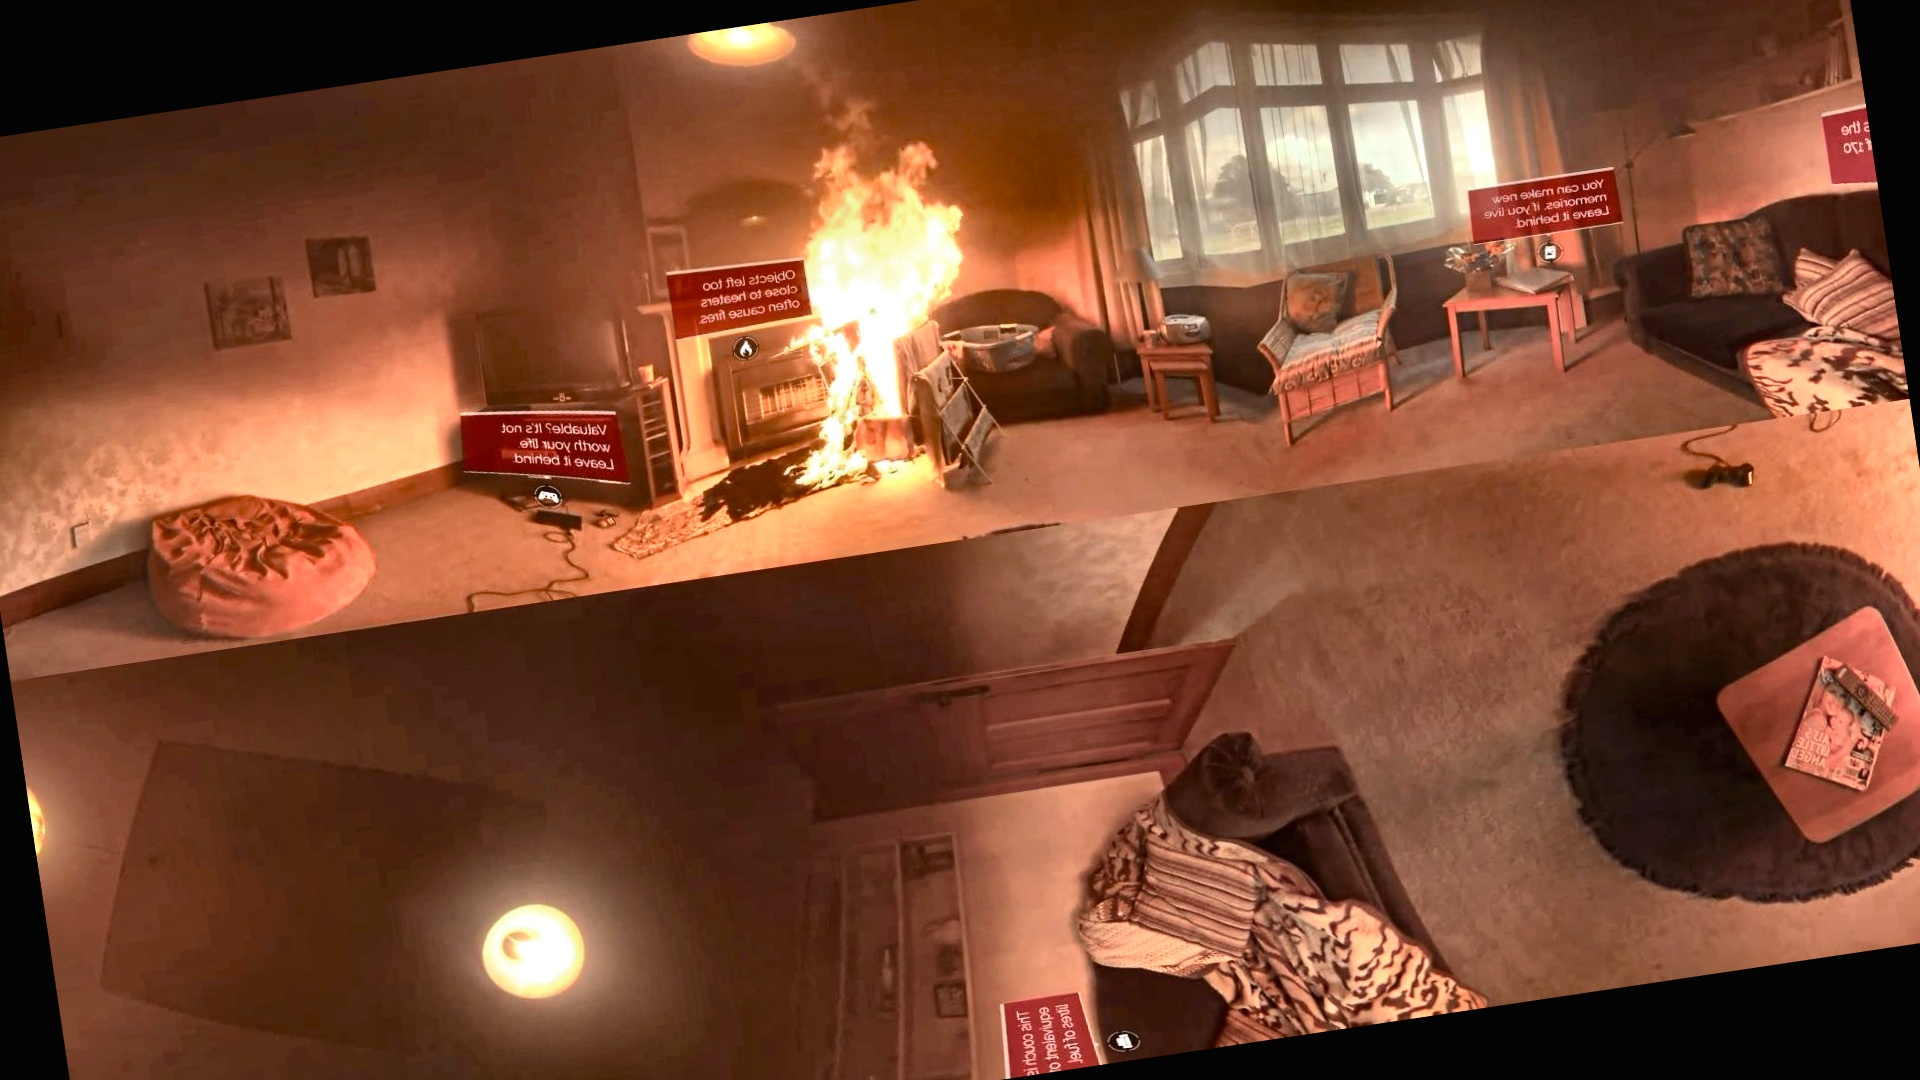fire: (736, 102, 1011, 479)
